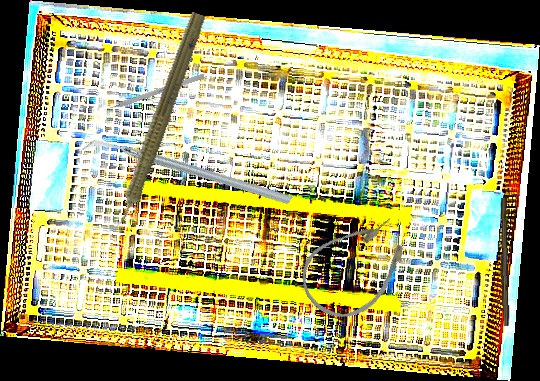Cannula: (287, 201, 426, 334)
Chopper: (81, 72, 294, 274)
Handpiece: (102, 8, 210, 240)
Hook Surgical: (100, 73, 205, 114)
Scalpel Handle: (496, 197, 512, 327)
